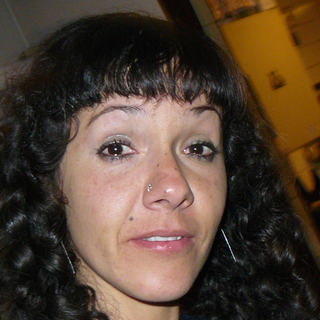eye: (92, 134, 145, 168), (178, 133, 225, 168)
